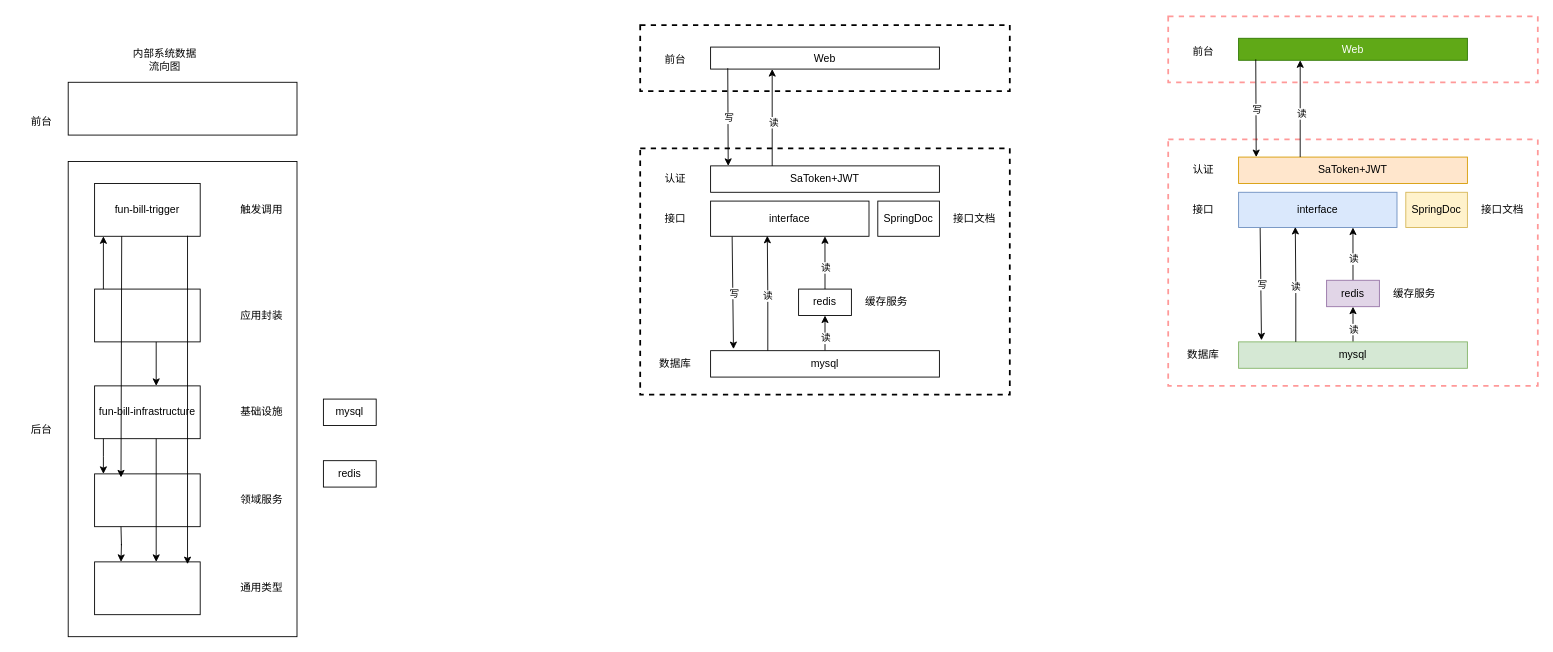
The diagram is 1553 pixels wide and 652 high, and some of its shapes have lost their labels. The shapes that lost their labels are listed below. From the top down, each one's box as (x1, y1, x2, y2) in pixels, then its label:
(67, 81, 297, 135): React
(94, 288, 200, 342): fun-bill-app
(94, 473, 200, 527): fun-bill-domain
(94, 561, 200, 615): fun-bill-types
